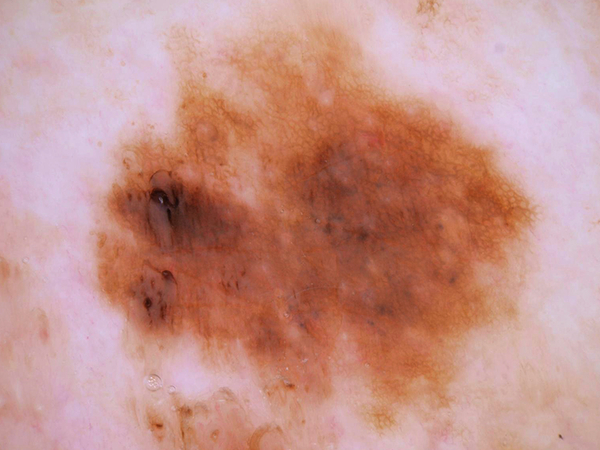Detected Lesion: (94, 19, 538, 439)
